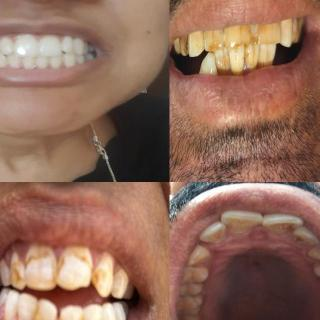calculus: (30, 300, 46, 320), (73, 313, 91, 320)
maligned: (222, 208, 264, 240), (0, 52, 6, 70)
stains: (250, 15, 279, 47), (173, 24, 191, 62), (226, 21, 252, 47), (229, 44, 249, 76), (226, 216, 255, 237), (214, 46, 230, 79), (267, 219, 299, 235), (247, 40, 261, 72), (204, 227, 228, 242), (187, 293, 207, 310), (197, 243, 215, 261), (292, 231, 310, 249), (189, 264, 211, 278), (189, 277, 209, 291), (309, 259, 320, 275)
